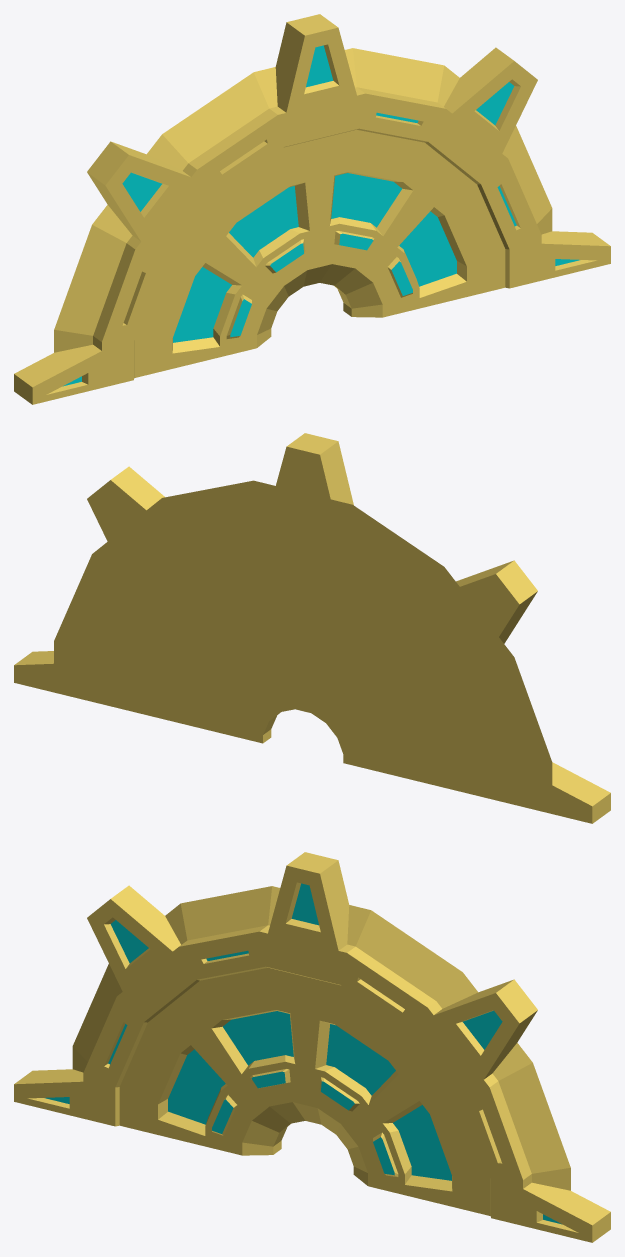
Rendered from Half.fbx.
3 renders of one model, top to bottom at view 1: azimuth 30°, elevation 25°; view 2: azimuth 150°, elevation 25°; view 3: azimuth 330°, elevation 25°, orthographic.
Parts seen in each view (by area): view 1: Prop_Jungle_Temple_Ornament_Half_Sun_Gold_Gem_01.001, Prop_Jungle_Temple_Ornament_Half_Sun_Gold_Gem_01; view 2: Prop_Jungle_Temple_Ornament_Half_Sun_Gold_Gem_01.001; view 3: Prop_Jungle_Temple_Ornament_Half_Sun_Gold_Gem_01.001, Prop_Jungle_Temple_Ornament_Half_Sun_Gold_Gem_01.
Part boxes in pixels (left/top/right/bottom): Prop_Jungle_Temple_Ornament_Half_Sun_Gold_Gem_01.001: left=14, top=14, right=610, bottom=404; Prop_Jungle_Temple_Ornament_Half_Sun_Gold_Gem_01: left=63, top=45, right=579, bottom=386; Prop_Jungle_Temple_Ornament_Half_Sun_Gold_Gem_01.001: left=14, top=433, right=610, bottom=823; Prop_Jungle_Temple_Ornament_Half_Sun_Gold_Gem_01.001: left=14, top=852, right=610, bottom=1242; Prop_Jungle_Temple_Ornament_Half_Sun_Gold_Gem_01: left=45, top=883, right=561, bottom=1224.
Bounding box in the file's own units: 304 × 152 × 16.83.
